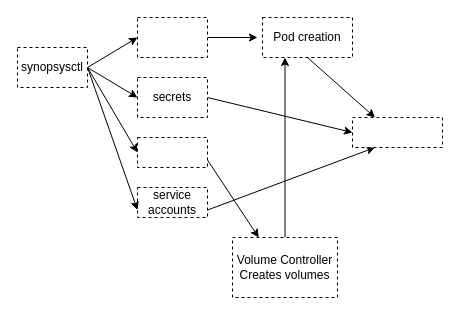
This 460x315 diagram has some shape labels left out. The shapes that lost their labels are listed below. From the top down, each one's centre as x and y in pixels, then its label:
the point at 172,37: deployments
the point at 172,152: PVCs
the point at 397,132: pods scheduled
